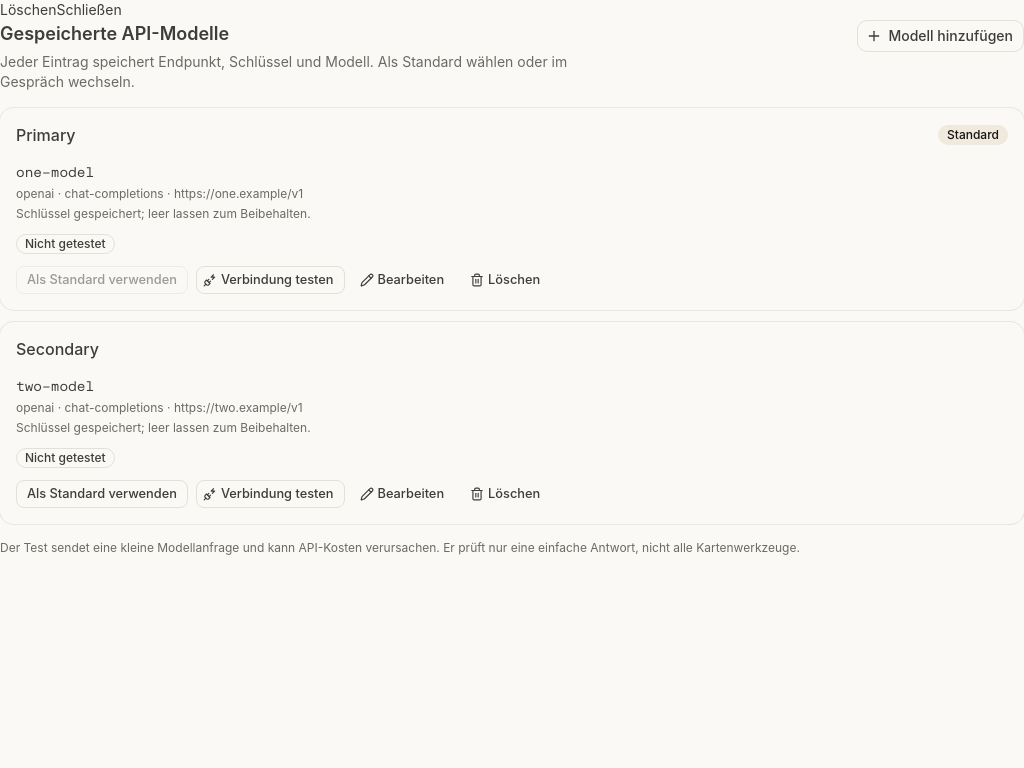
Scenario: API profile settings › labels the delete-dialog close action in de
Click the button "Löschen" below "https://two.example/v1" at (507, 494), box [463,480,551,508]
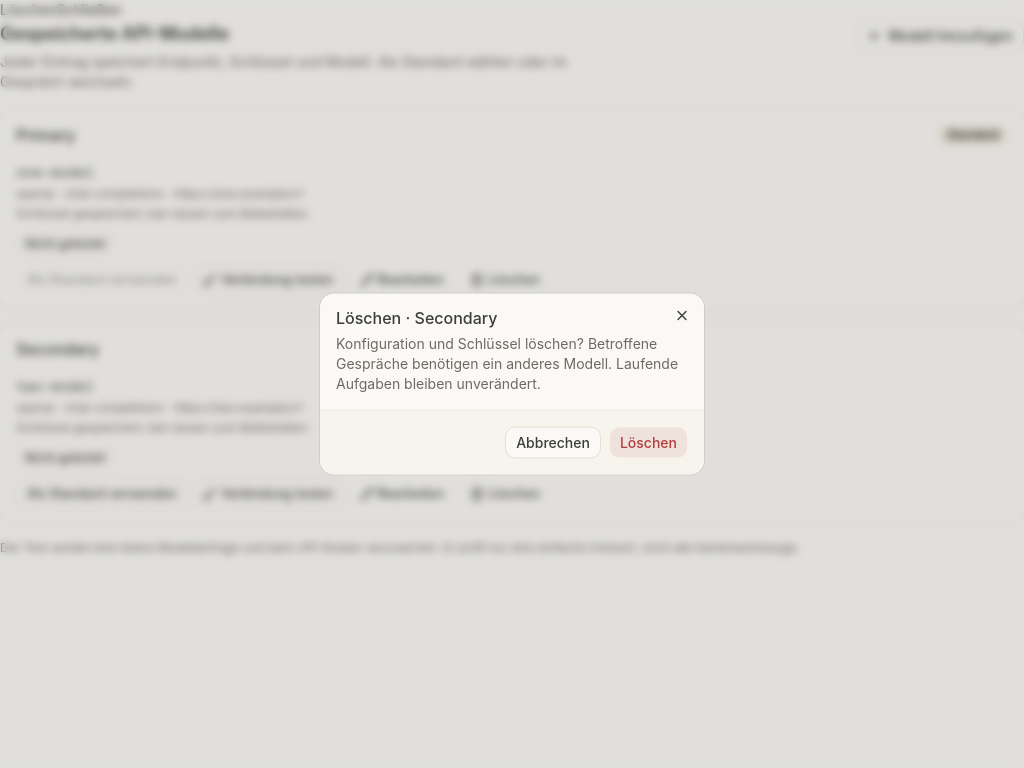
Click the button named "Schließen" at (682, 316), box [668,302,696,330]
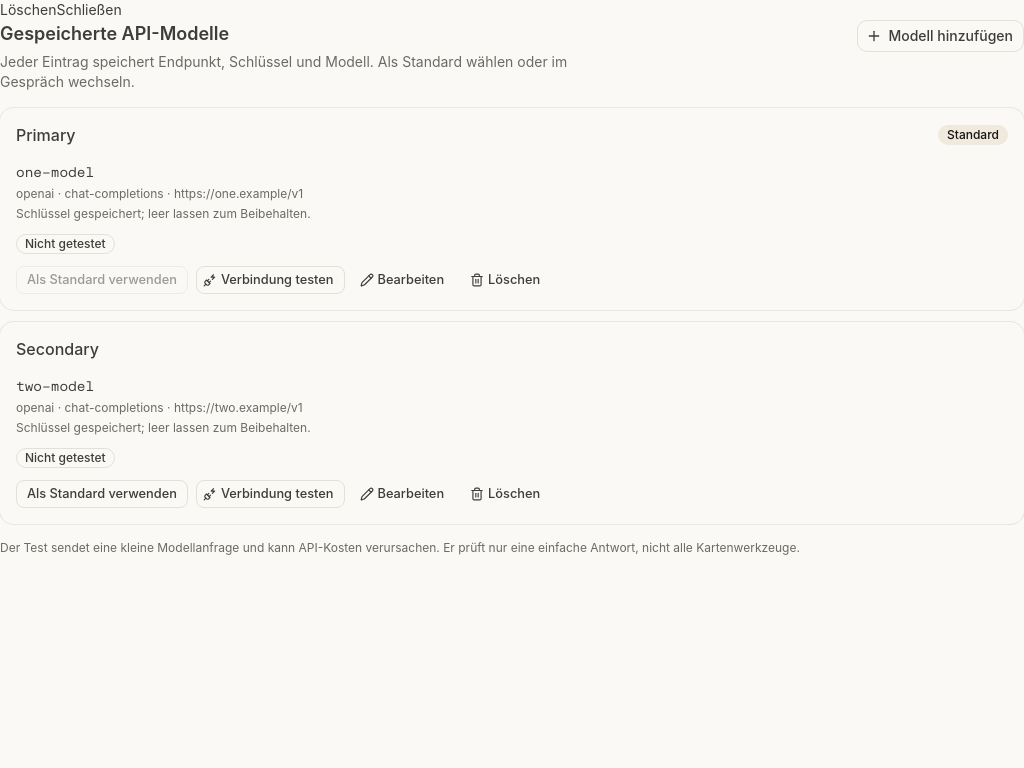
Expected: the dialog is gone
